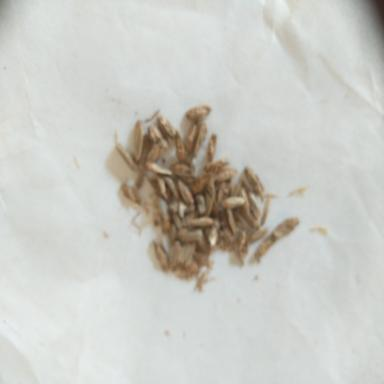pbw: (112, 140, 138, 169), (244, 166, 264, 200), (273, 218, 301, 240), (120, 177, 139, 206), (152, 237, 168, 269), (145, 124, 168, 146), (254, 238, 273, 263), (244, 201, 260, 229), (220, 212, 233, 246), (143, 144, 167, 160), (184, 120, 196, 152), (179, 178, 195, 202), (248, 189, 261, 217), (184, 107, 212, 120), (155, 174, 169, 200), (249, 224, 267, 244), (166, 174, 181, 198), (195, 124, 208, 150), (134, 118, 142, 160), (202, 159, 224, 174), (174, 135, 186, 162), (193, 175, 208, 196), (144, 163, 172, 174), (213, 168, 237, 180), (207, 132, 217, 160), (240, 176, 256, 193), (222, 196, 244, 208), (198, 234, 211, 254), (191, 216, 216, 226), (159, 210, 169, 233), (227, 210, 236, 235), (194, 252, 210, 266), (238, 230, 248, 252), (202, 193, 213, 213), (217, 181, 226, 205), (182, 211, 195, 227), (210, 226, 218, 252), (208, 175, 216, 199), (172, 212, 183, 229), (136, 168, 144, 190), (178, 235, 200, 243), (174, 164, 190, 174), (168, 204, 181, 212)
